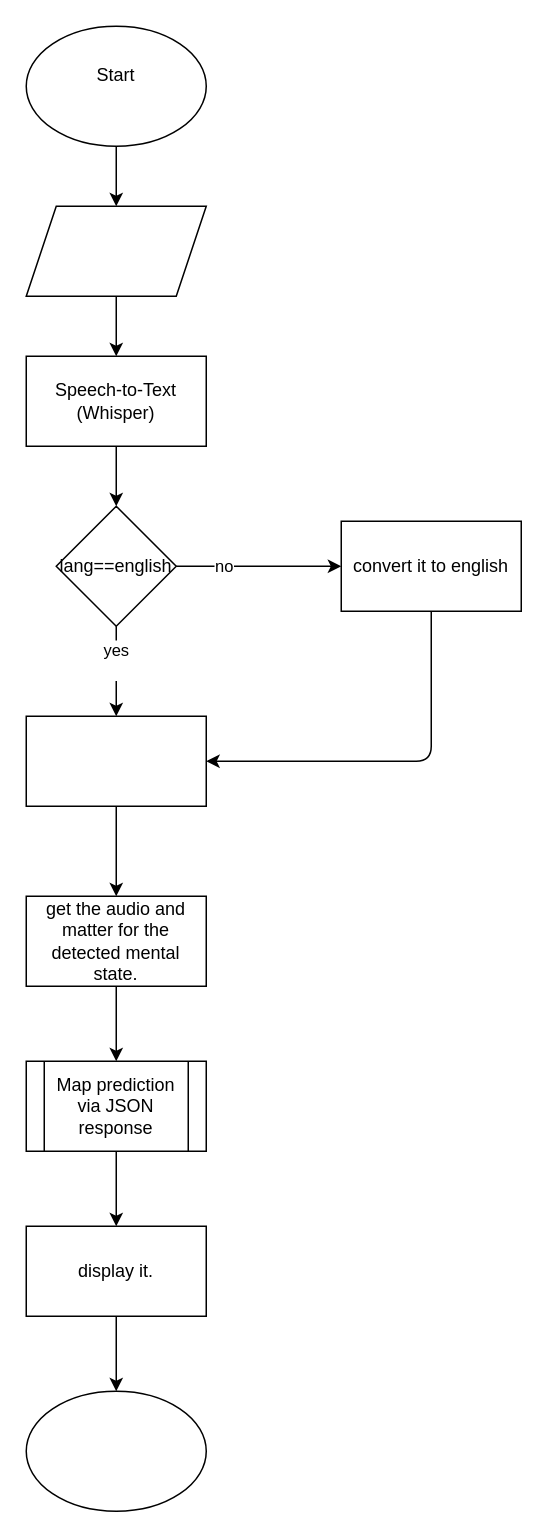
Image size: 548x1538. Some labels were removed from this diagram. The shapes that lost their labels are listed below. From the top down, each one's centre as x and y in pixels, then its label:
At point 115,250: "Get audio input".
At point 115,760: "detect mental state".
At point 115,1450: "end".
